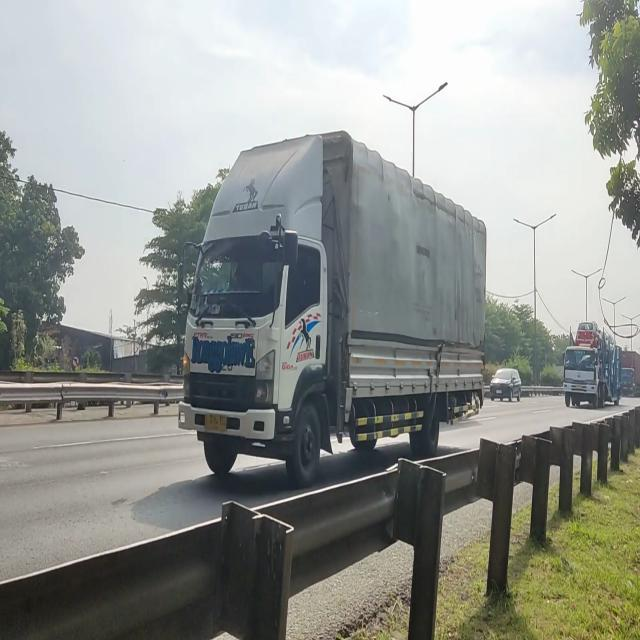Golongan II: (178, 147, 491, 497)
